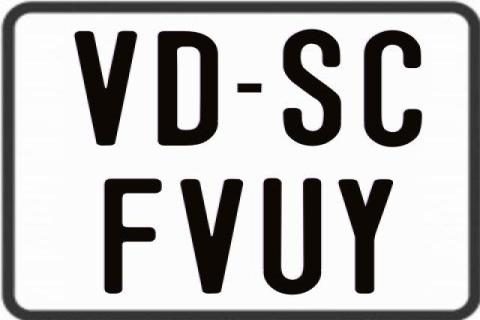C: (364, 28, 422, 148)
D: (156, 29, 216, 147)
F: (103, 178, 164, 296)
S: (280, 29, 341, 149)
U: (263, 177, 323, 297)
V: (74, 31, 141, 151), (179, 178, 244, 298)
Y: (338, 178, 398, 294)
